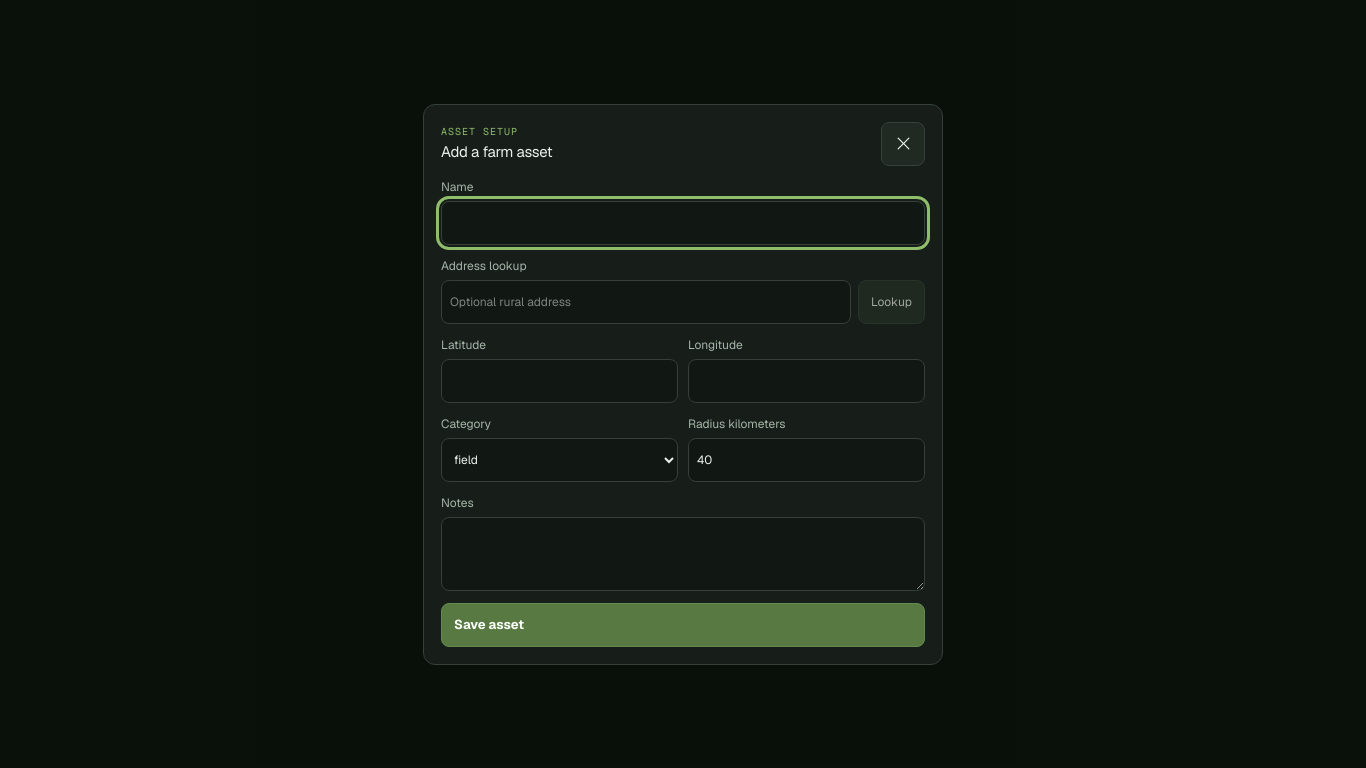
Test: EmberField console › rejects setup radii outside the shared 1 to 100 km contract before saving
Type "North Field" into the field labelled "Name" at (683, 222), box [441, 200, 925, 244]
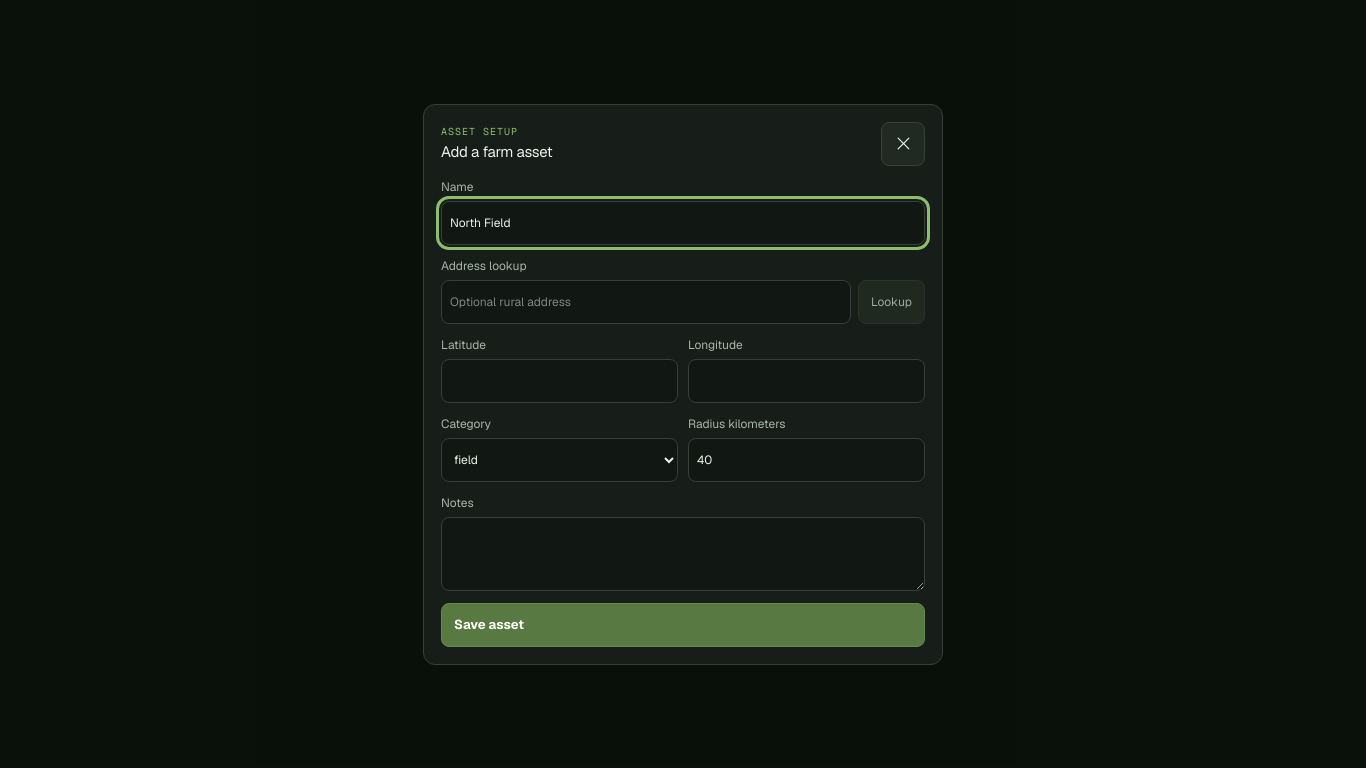
Type "41" into the number field labelled "Latitude" at (560, 380), box [441, 358, 678, 402]
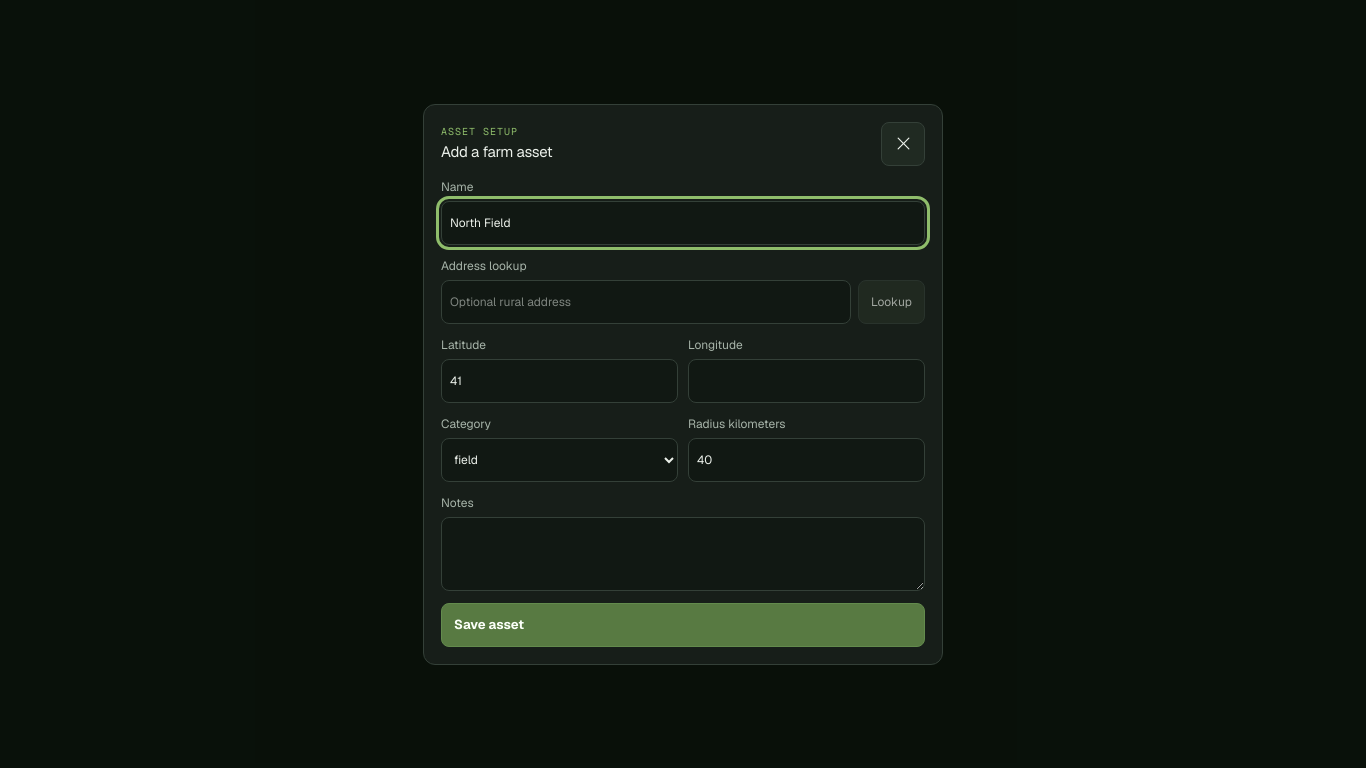
Type "-116" into the number field labelled "Longitude" at (806, 380), box [688, 358, 925, 402]
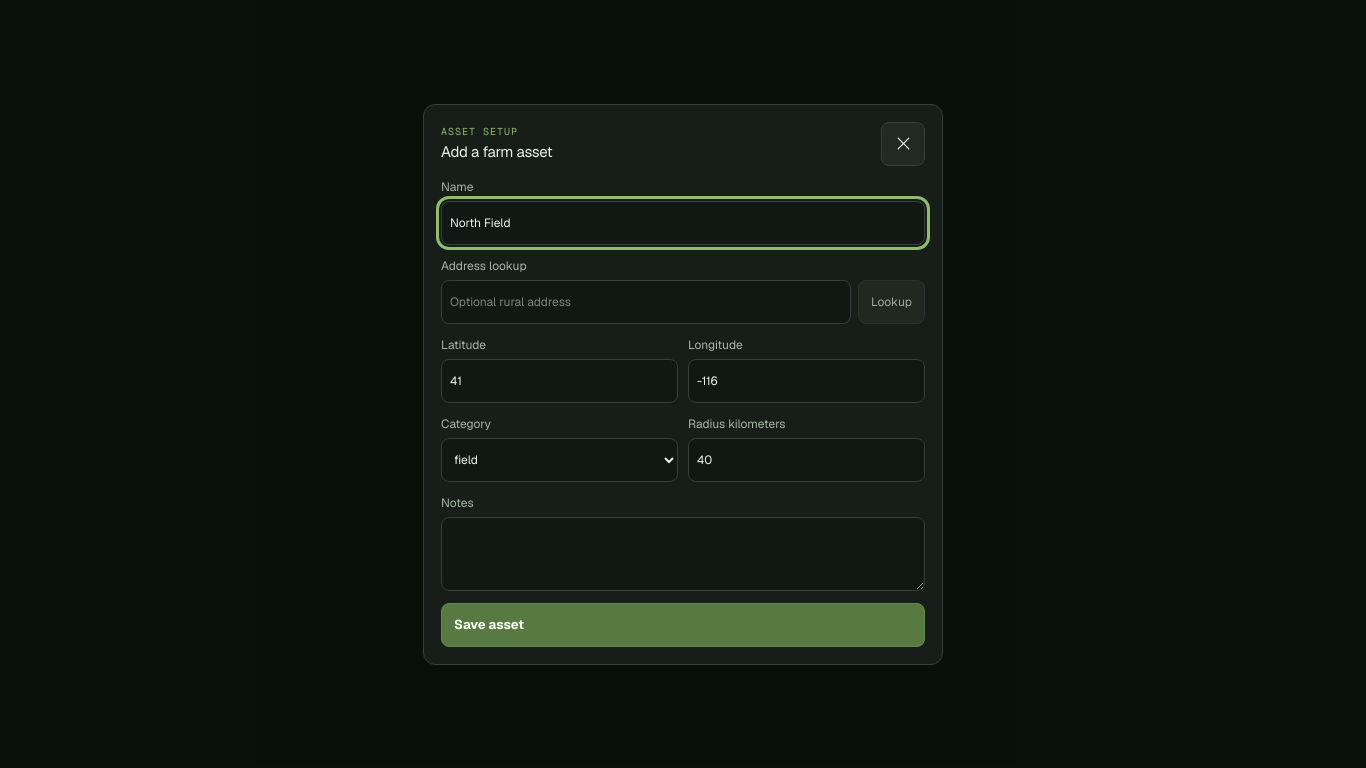
Replace the text in the number field labelled "Radius kilometers" with "100.01" at (806, 460), box [688, 438, 925, 482]
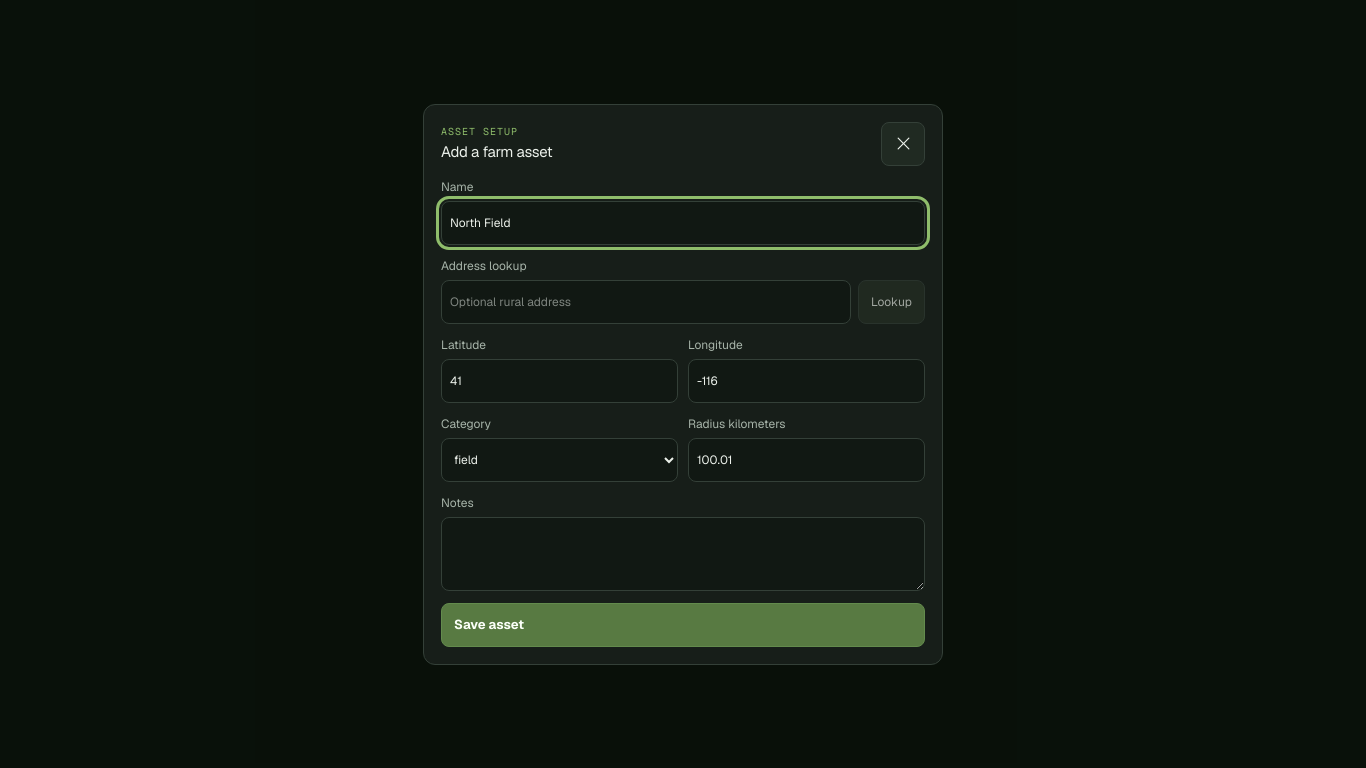
Submit the dialog, box [423, 104, 943, 664]
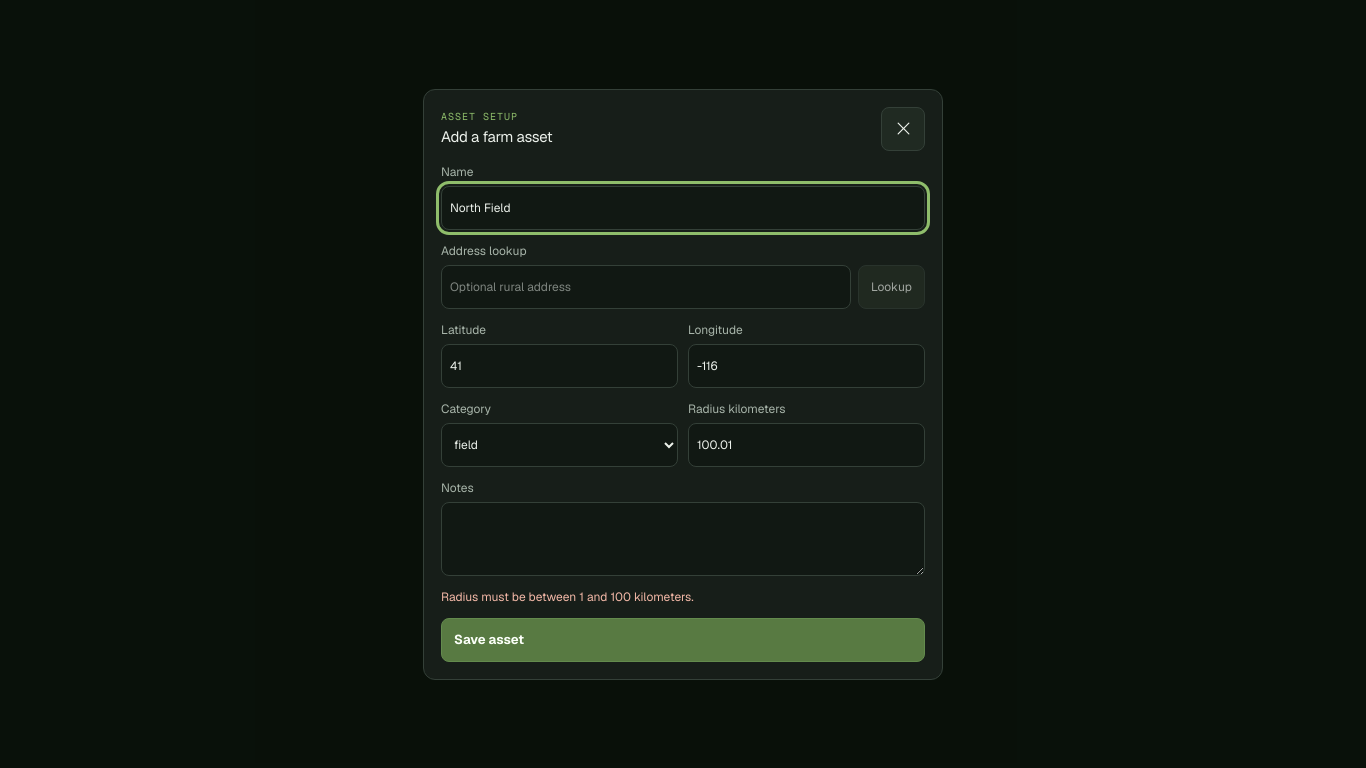
expect the message shows "between 1 and 100 kilometers": met, box [441, 588, 694, 604]
